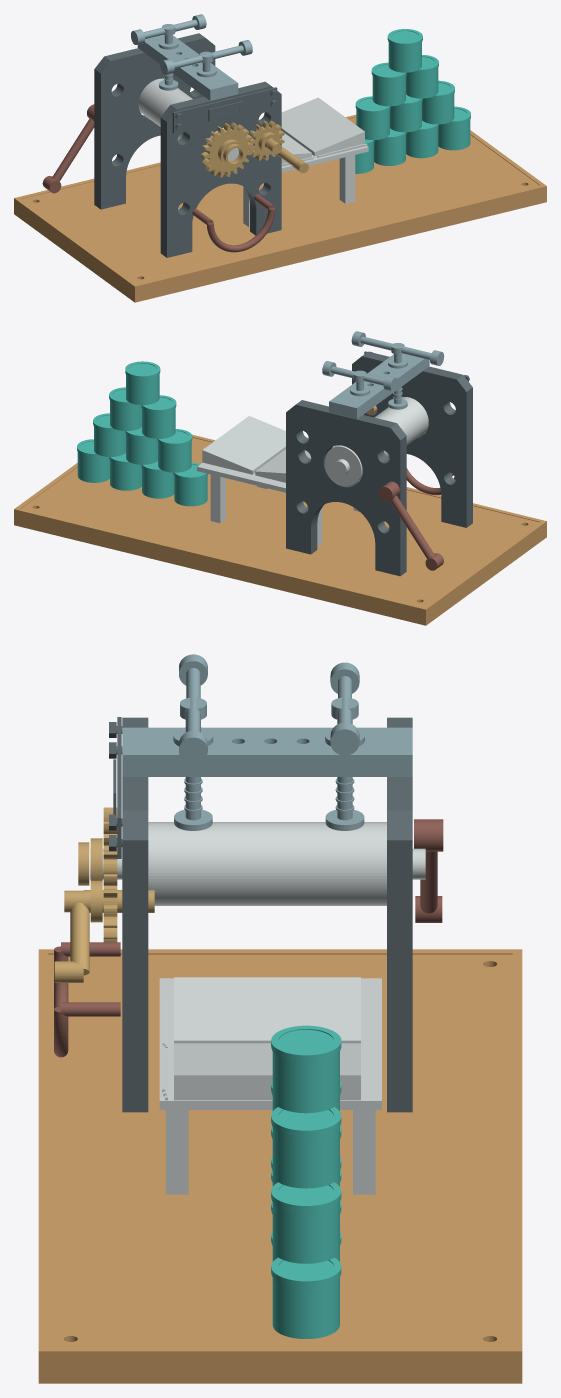
File: xhs_anchor_press_cad.glb
3 renders of one model, top to bottom at view 1: azimuth 30°, elevation 25°; view 2: azimuth 150°, elevation 25°; view 3: azimuth 270°, elevation 25°, orthographic. The views are drawn at different scales.
Visible parts, largest first — view 1: workbench_baseboard, cast_iron_side_frames, tiered_ink_tins, impression_roller_and_bed, top_crossbeam_and_t_screws, spur_gear_train_and_crank, operating_levers_and_pull_handle; view 2: workbench_baseboard, cast_iron_side_frames, tiered_ink_tins, impression_roller_and_bed, top_crossbeam_and_t_screws, operating_levers_and_pull_handle; view 3: workbench_baseboard, impression_roller_and_bed, tiered_ink_tins, top_crossbeam_and_t_screws, cast_iron_side_frames, spur_gear_train_and_crank, operating_levers_and_pull_handle.
Boxes of the visible parts, left/top/right/bottom form: workbench_baseboard: left=14, top=114, right=546, bottom=302; cast_iron_side_frames: left=94, top=33, right=281, bottom=257; tiered_ink_tins: left=355, top=29, right=470, bottom=173; impression_roller_and_bed: left=138, top=78, right=368, bottom=227; top_crossbeam_and_t_screws: left=131, top=14, right=252, bottom=100; spur_gear_train_and_crank: left=201, top=120, right=308, bottom=177; operating_levers_and_pull_handle: left=42, top=104, right=275, bottom=252; workbench_baseboard: left=14, top=434, right=546, bottom=625; cast_iron_side_frames: left=286, top=351, right=472, bottom=576; tiered_ink_tins: left=77, top=361, right=208, bottom=506; impression_roller_and_bed: left=197, top=397, right=428, bottom=546; top_crossbeam_and_t_screws: left=322, top=331, right=444, bottom=419; operating_levers_and_pull_handle: left=378, top=468, right=455, bottom=570; workbench_baseboard: left=38, top=949, right=522, bottom=1383; impression_roller_and_bed: left=90, top=822, right=425, bottom=1194; tiered_ink_tins: left=271, top=1025, right=341, bottom=1338; top_crossbeam_and_t_screws: left=122, top=654, right=412, bottom=830; cast_iron_side_frames: left=109, top=717, right=412, bottom=1112; spur_gear_train_and_crank: left=54, top=807, right=154, bottom=982; operating_levers_and_pull_handle: left=54, top=819, right=443, bottom=1057.
Size of the model in its own units: 0.295 by 0.1345 by 0.15.
